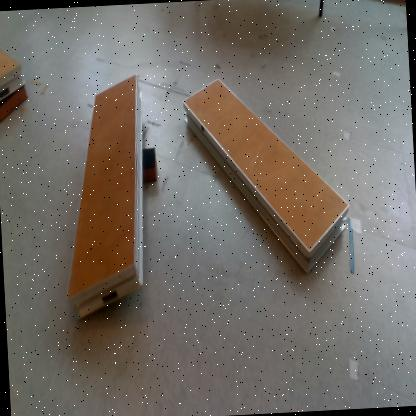Stairs: (182, 79, 350, 278), (69, 73, 144, 324), (1, 49, 27, 104)
